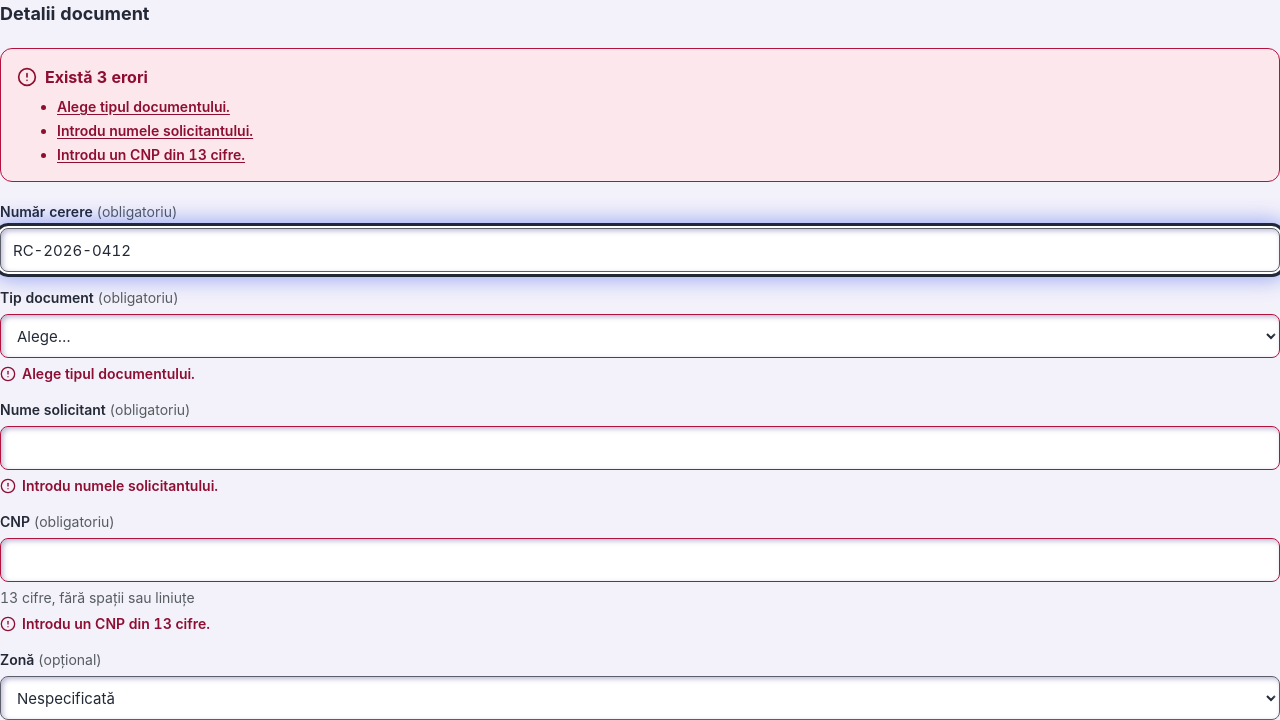
Test: MetadataForm › validates on submit: an error summary links to each field, then the metadata goes out and the personal data is cleared
Earlier steps of the test are not shown.
Select "Act de identitate" in the dropdown labelled "Tip document (obligatoriu)" at (640, 336), box 0,314 -> 1279,358
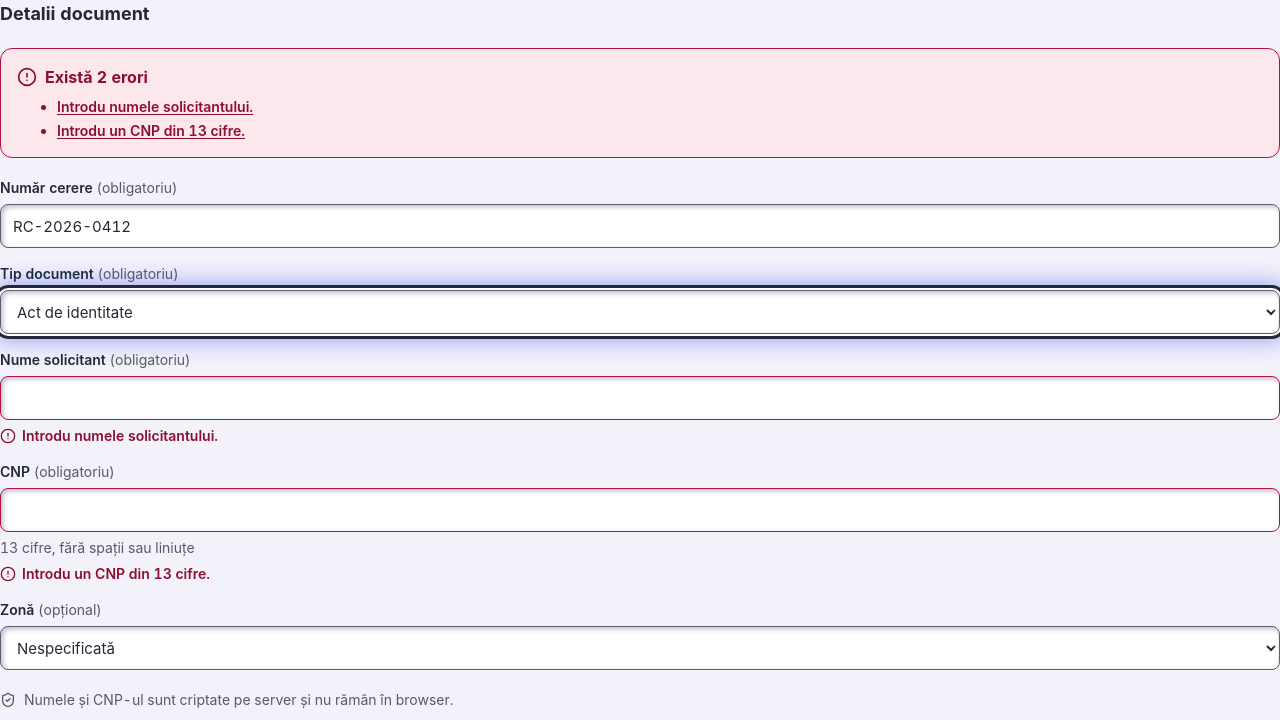
Type "Ion Popescu" into the field labelled "Nume solicitant (obligatoriu)" at (640, 398), box 0,376 -> 1279,420
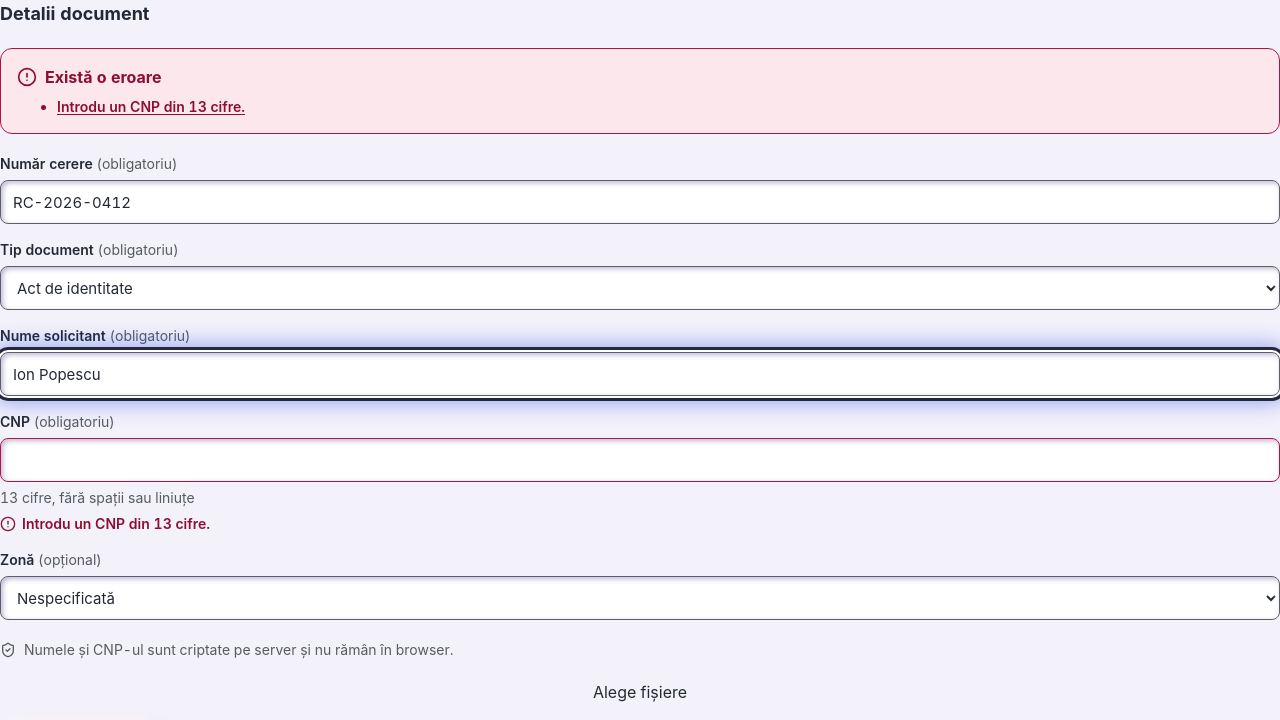
Type "1960101410018" into the field labelled "CNP (obligatoriu)" at (640, 460), box 0,438 -> 1279,482
(page scrolled)
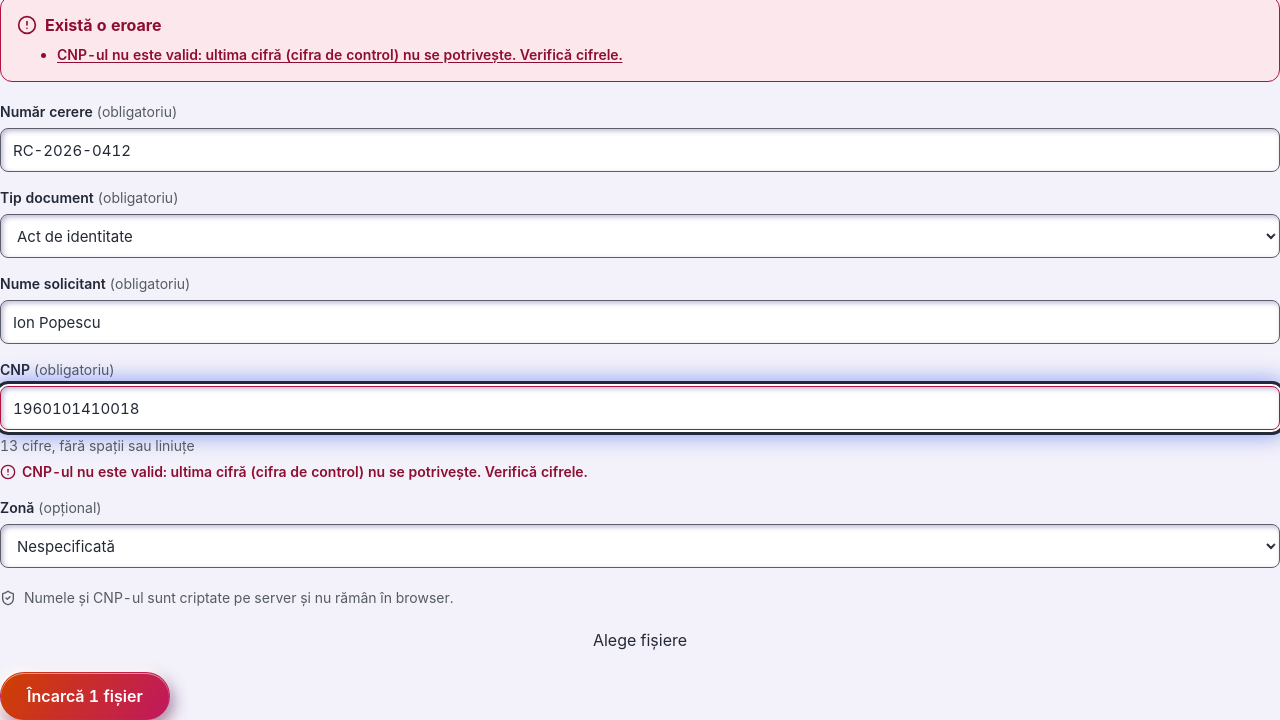
Click the button "Încarcă 1 fișier" at (85, 696), box 0,672 -> 170,719
(page scrolled)
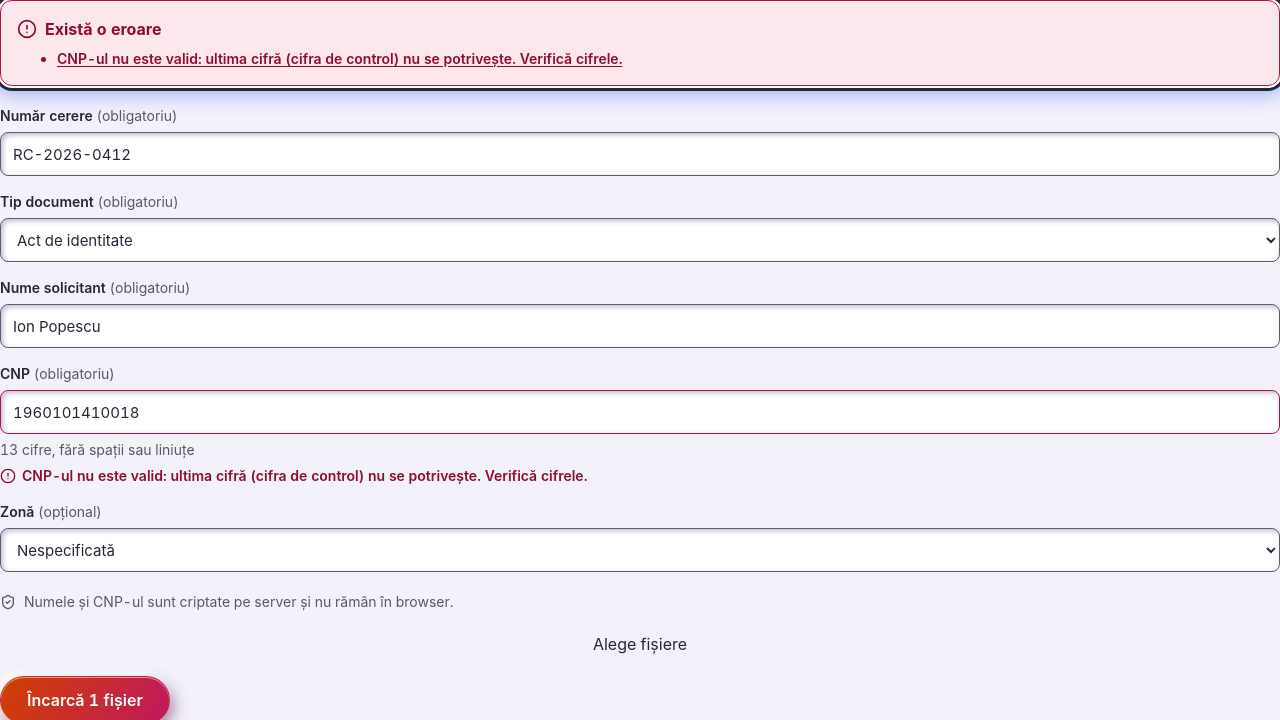
Result: the heading "Există o eroare" is shown at 17,19 -> 162,39
Result: the link "cifra de control" is shown at 57,50 -> 622,67
Replace the text in the field labelled "CNP (obligatoriu)" with "1960101410019" at (640, 412), box 0,390 -> 1279,434
(page scrolled)
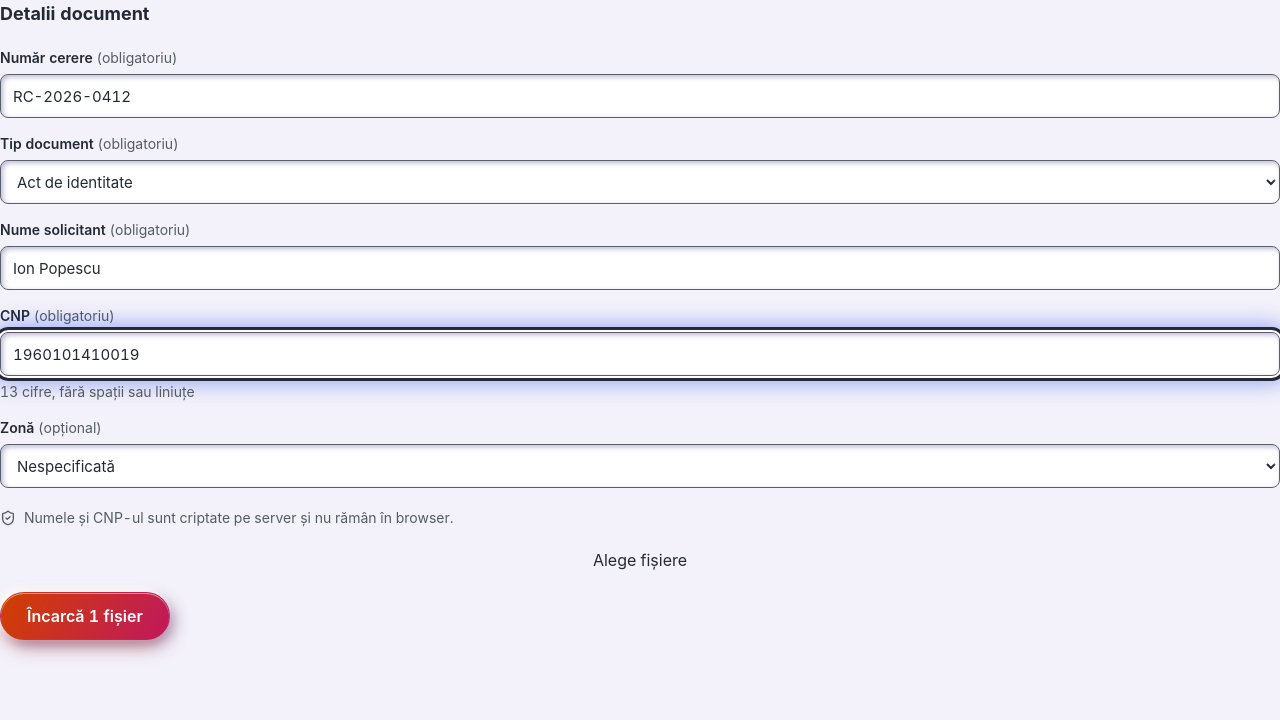
Click the button "Încarcă 1 fișier" at (85, 616), box 0,592 -> 170,640
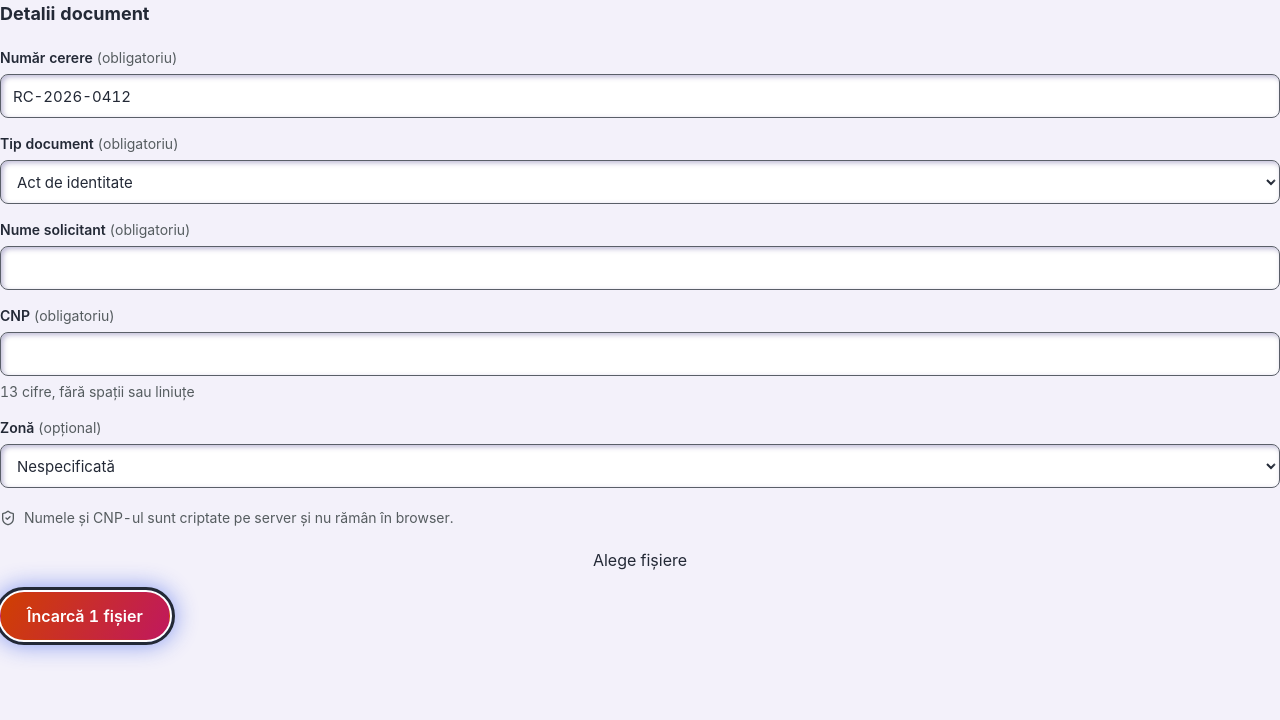
Expected: the heading "Există" is not shown
Result: the field labelled "Nume solicitant (obligatoriu)" is empty at 0,246 -> 1279,290
